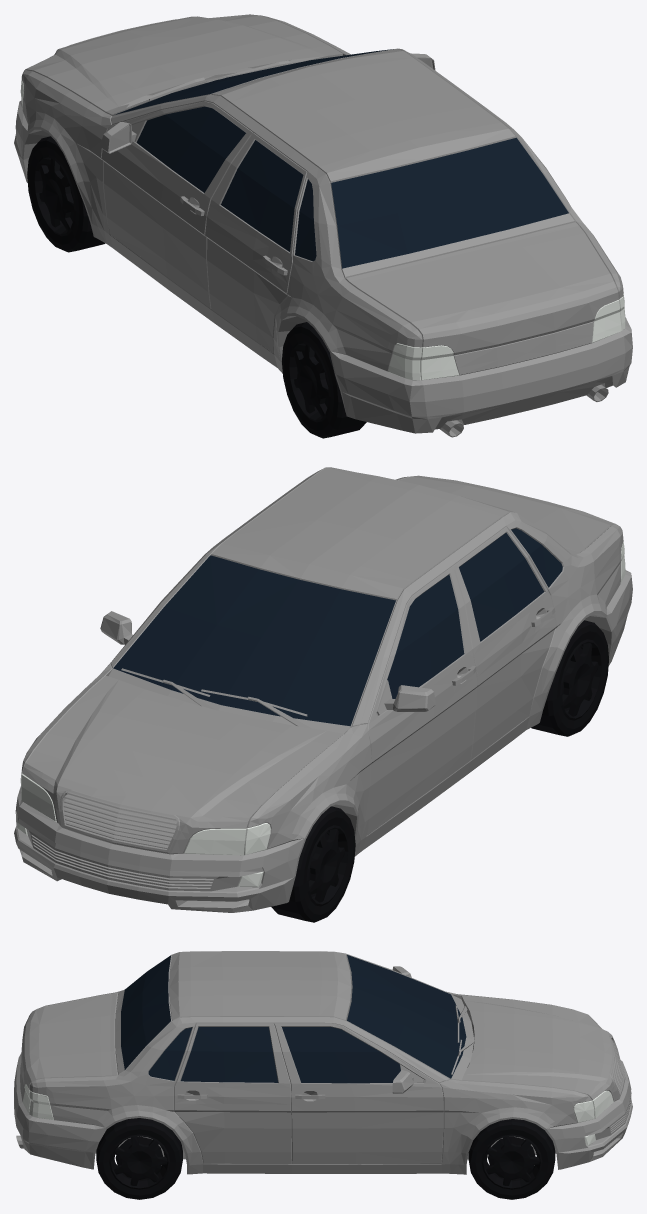
File: sedan.obj
The picture shows the model from 3 angles, top to bottom: view 1: azimuth 30°, elevation 25°; view 2: azimuth 150°, elevation 25°; view 3: azimuth 270°, elevation 25°; orthographic projection. The views are drawn at different scales.
Visible parts, largest first — view 1: sedan-body, wheel_a003; view 2: sedan-body, wheel_a003; view 3: sedan-body, wheel_a003.
Boxes of the visible parts, box(x1,y1,x2,y2) form: sedan-body: box(14, 14, 632, 437); wheel_a003: box(27, 136, 366, 438); sedan-body: box(14, 467, 632, 912); wheel_a003: box(271, 620, 608, 922); sedan-body: box(14, 951, 632, 1174); wheel_a003: box(96, 1118, 555, 1199).
Size of the model in its own units: 1.83 by 1.26 by 4.1.
